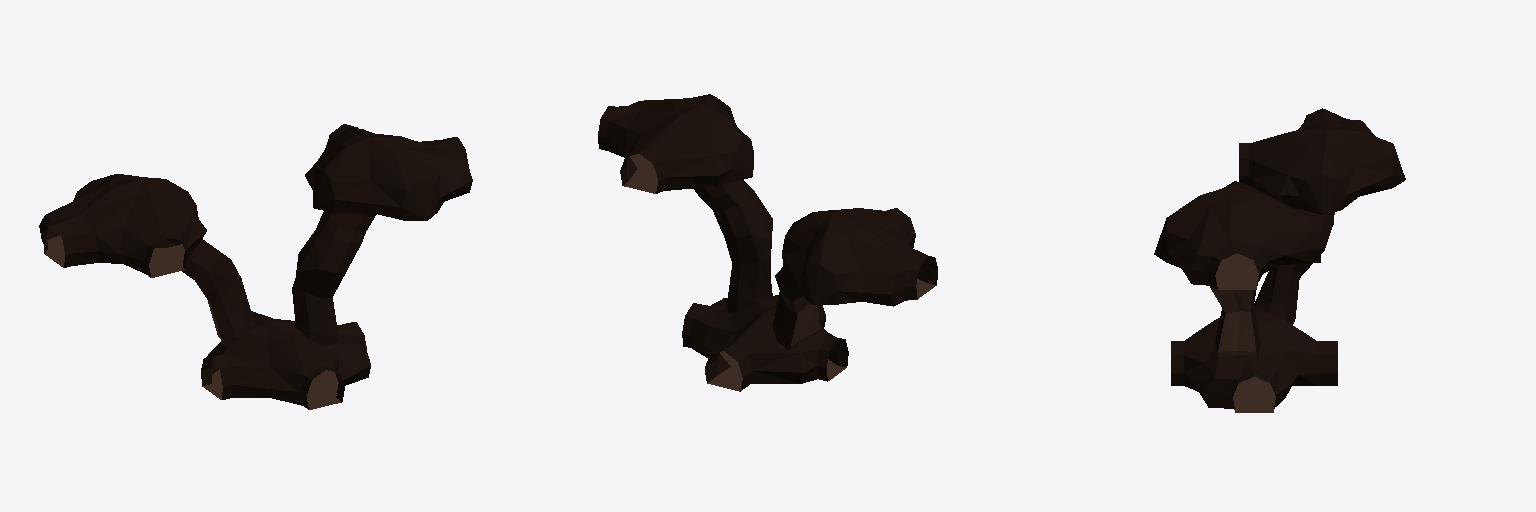
The model's file is cave_tile_6_3.obj.
The picture shows the model from 3 angles: view 1: azimuth 30°, elevation 25°; view 2: azimuth 150°, elevation 25°; view 3: azimuth 270°, elevation 25°; orthographic projection.
Parts seen in each view (by area): view 1: cave_tile_6:cave_tile_9; view 2: cave_tile_6:cave_tile_9; view 3: cave_tile_6:cave_tile_9.
Boxes of the visible parts, x1,y1,x2,y2 form: cave_tile_6:cave_tile_9: [39, 124, 472, 409]; cave_tile_6:cave_tile_9: [598, 94, 937, 391]; cave_tile_6:cave_tile_9: [1154, 108, 1405, 412].
Bounding box in the file's own units: 49.97 × 30.2 × 30.2.